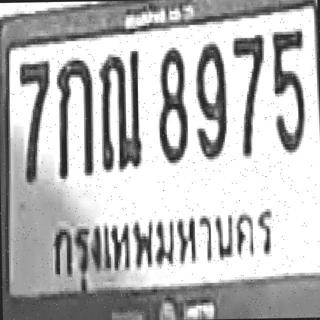A01: (54, 54, 92, 176)
A19: (98, 48, 141, 170)
N05: (270, 26, 304, 152)
N07: (230, 32, 264, 156), (18, 60, 52, 181)
N08: (156, 44, 186, 160)
N09: (193, 41, 227, 156)
P04: (50, 198, 278, 293)
